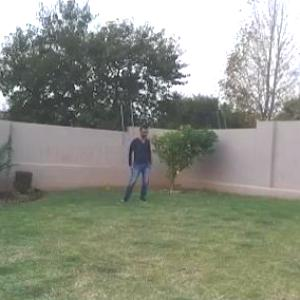follow: (127, 120, 154, 206)
